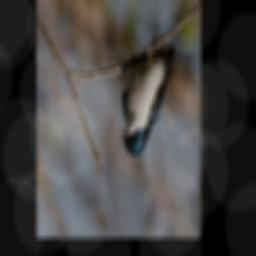Swallow: (122, 35, 176, 157)
